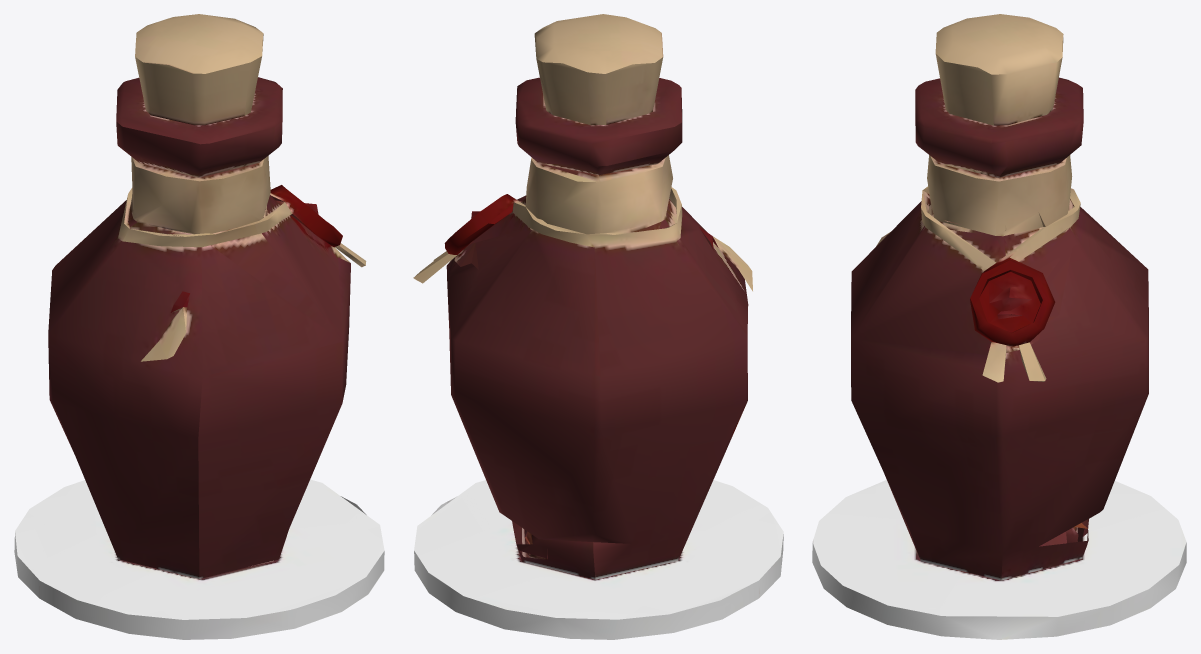
Rendered from 紅藥水.glb.
3 views of the same model, side by side, from view 1: azimuth 30°, elevation 25°; view 2: azimuth 150°, elevation 25°; view 3: azimuth 270°, elevation 25° (orthographic).
Visible parts, largest first — view 1: geometry_0; view 2: geometry_0; view 3: geometry_0.
Boxes of the visible parts, x1=… form: geometry_0: x1=14, y1=14, x2=384, y2=639; geometry_0: x1=413, y1=14, x2=783, y2=639; geometry_0: x1=812, y1=14, x2=1186, y2=639.
Bounding box in the file's own units: 0.6492 × 1 × 0.6439.
Materials: 1 (1 with a texture image).
